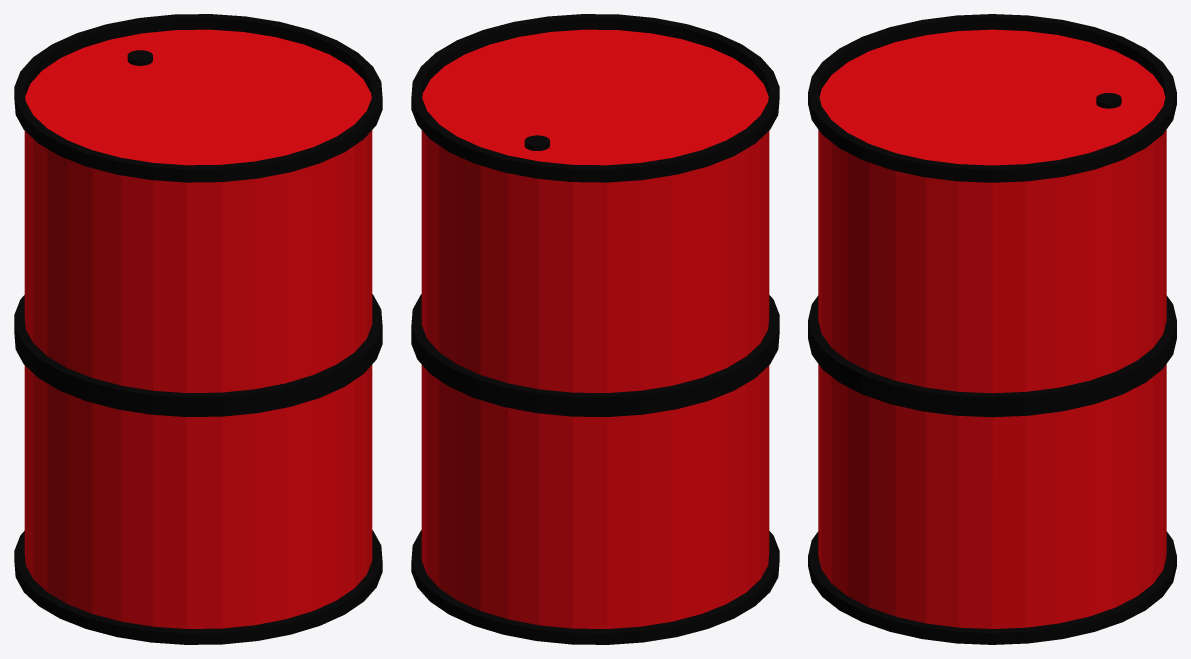
File: MetalBarrel.fbx
The picture shows the model from 3 angles, left to right: view 1: azimuth 30°, elevation 25°; view 2: azimuth 150°, elevation 25°; view 3: azimuth 270°, elevation 25°; orthographic projection.
Parts seen in each view (by area): view 1: Cylinder; view 2: Cylinder; view 3: Cylinder.
Part boxes in pixels (<box>): Cylinder: <box>14,14,382,644</box>; Cylinder: <box>411,14,779,644</box>; Cylinder: <box>808,14,1176,644</box>.
Bounding box in the file's own units: 84.87 × 121 × 84.87.
